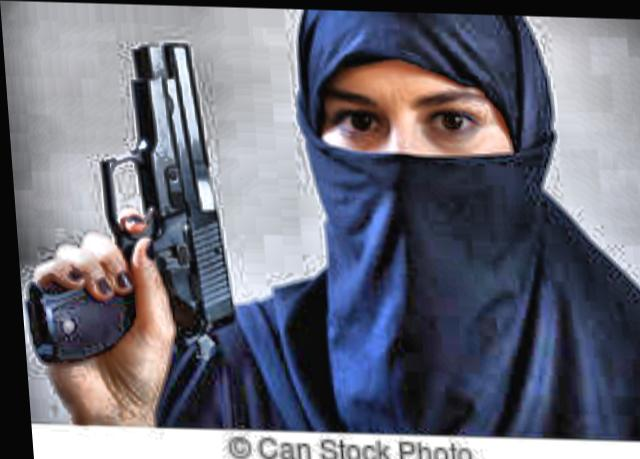pistol: (5, 36, 234, 371)
